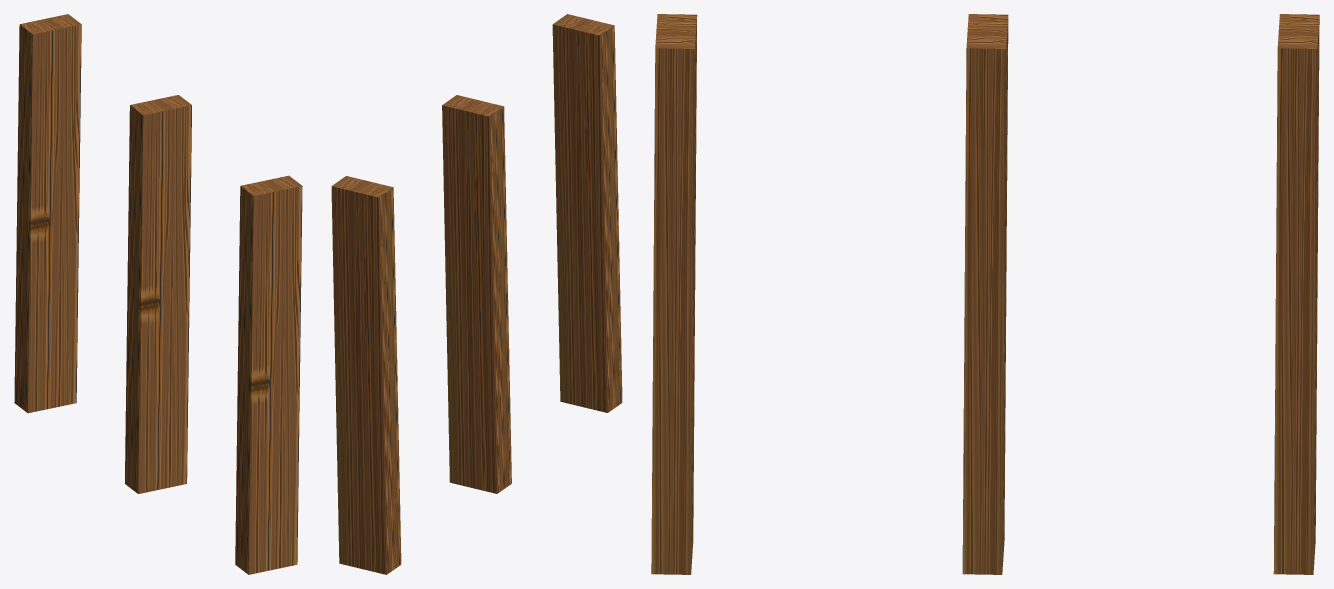
3 views of the same model, side by side, from view 1: azimuth 30°, elevation 25°; view 2: azimuth 150°, elevation 25°; view 3: azimuth 270°, elevation 25° (orthographic). The views are drawn at different scales.
Visible parts, largest first — view 1: Cube.499; view 2: Cube.499; view 3: Cube.499.
Boxes of the visible parts, x1,y1,x2,y2 form: Cube.499: (14,14,302,574); Cube.499: (331,14,622,574); Cube.499: (651,14,1319,574).
Size of the model in its own units: 21.84 by 143 by 163.
Materials: 1 (1 with a texture image).
